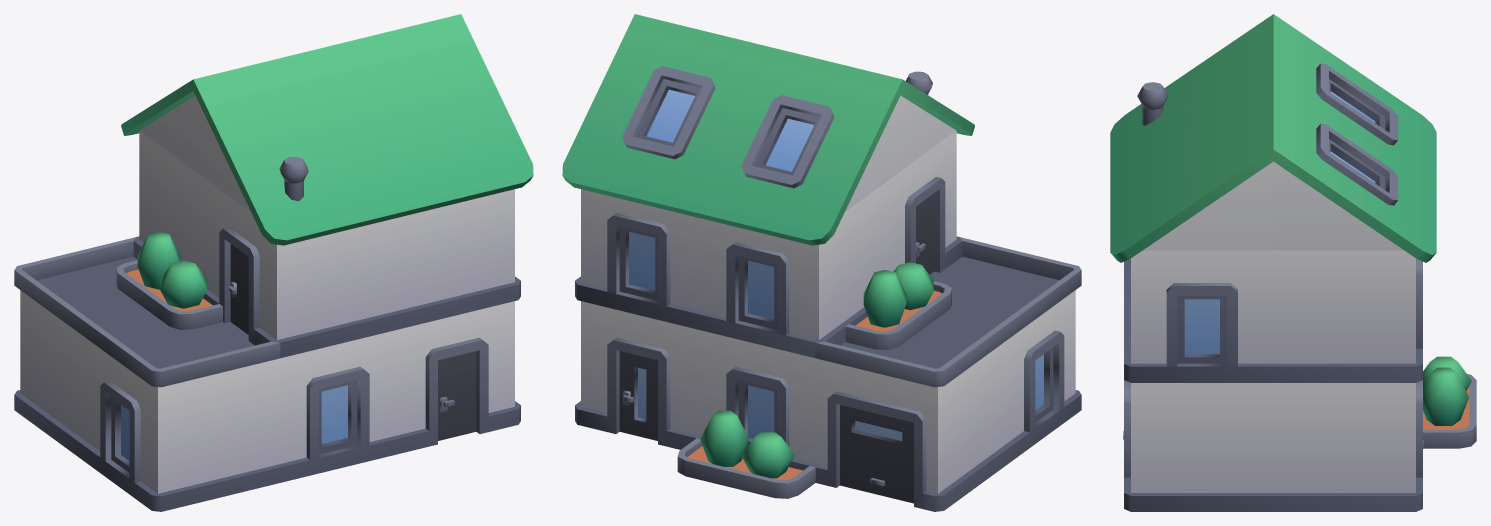
Rendered from building-type-o.draco.glb.
3 renders of one model, left to right at view 1: azimuth 30°, elevation 25°; view 2: azimuth 150°, elevation 25°; view 3: azimuth 270°, elevation 25°, orthographic. The views are drawn at different scales.
Visible parts, largest first — view 1: building-type-o; view 2: building-type-o; view 3: building-type-o.
Boxes of the visible parts, x1,y1,x2,y2 form: building-type-o: (14,14,533,511); building-type-o: (562,14,1081,511); building-type-o: (1110,14,1476,511).
Bounding box in the file's own units: 1.27 × 1.14 × 1.03.
Materials: 1 (1 with a texture image).
